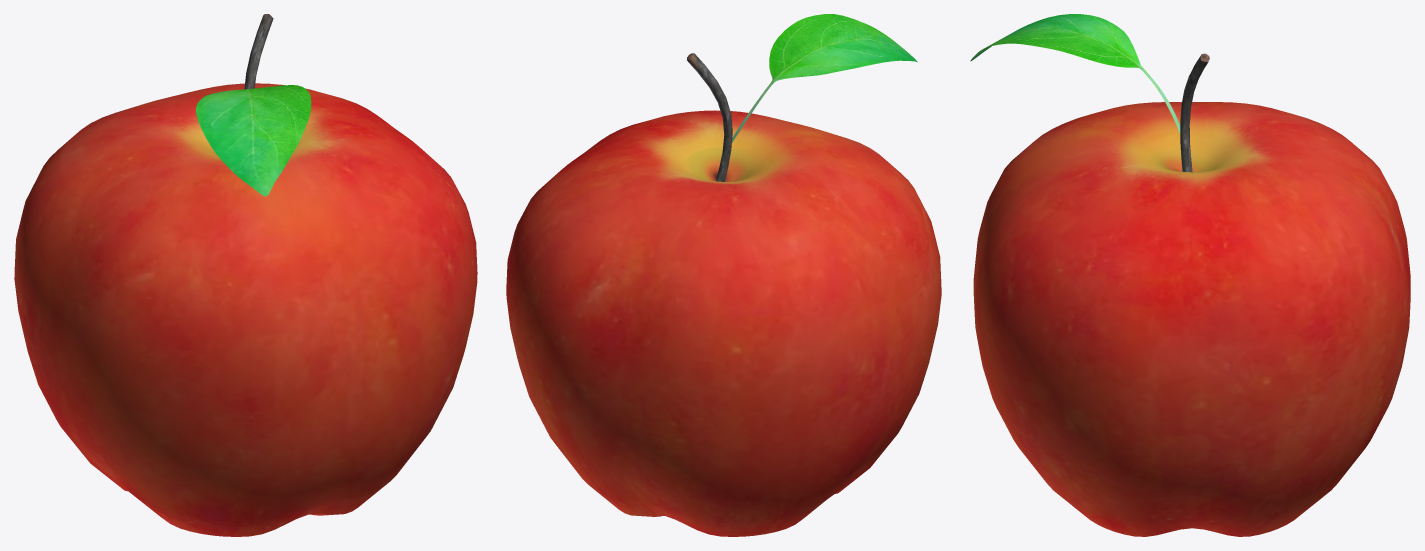
File: realapplewhole.glb
3 views of the same model, side by side, from view 1: azimuth 30°, elevation 25°; view 2: azimuth 150°, elevation 25°; view 3: azimuth 270°, elevation 25° (orthographic). The views are drawn at different scales.
Visible parts, largest first — view 1: Apples_4; view 2: Apples_4; view 3: Apples_4.
Boxes of the visible parts, box(x1,y1,x2,y2) form: Apples_4: box(14, 14, 477, 536); Apples_4: box(506, 14, 941, 536); Apples_4: box(970, 14, 1410, 536).
Size of the model in its own units: 0.0686 by 0.08 by 0.0692.
Materials: 1 (1 with a texture image).
